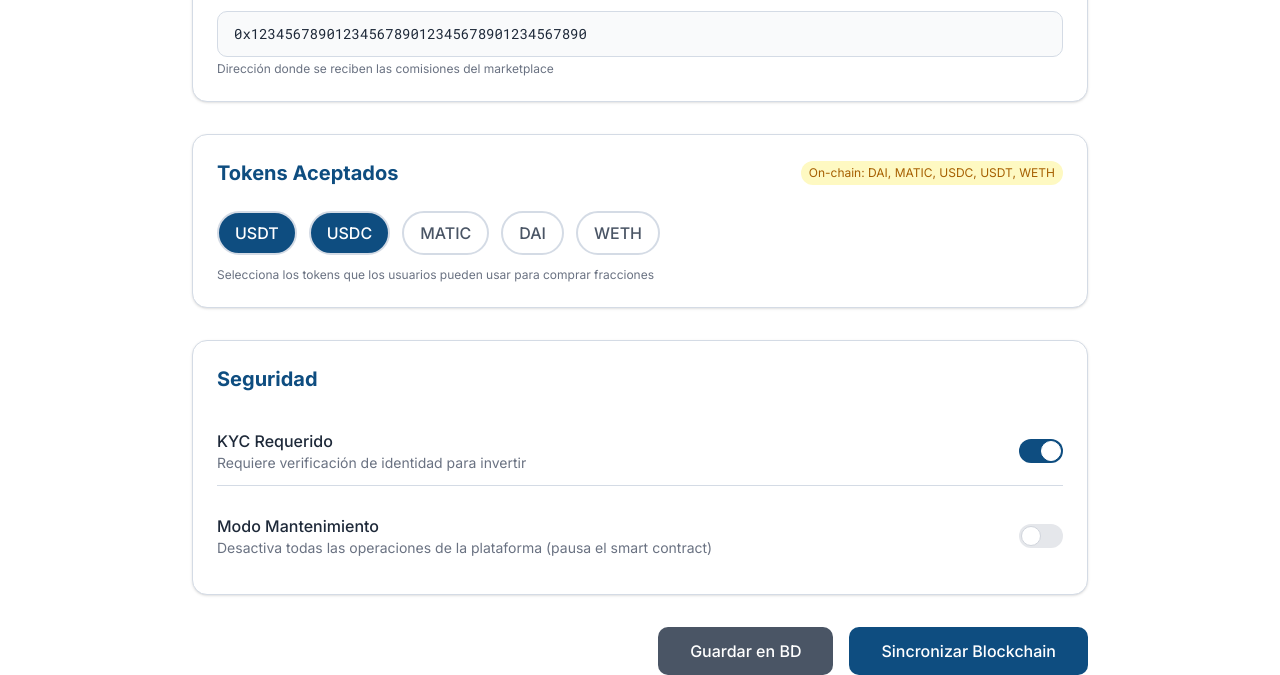
Test case: AdminSettingsPage › Settings Update › should show success message on save
(page scrolled)
Click the button "Guardar en BD".
click(746, 651)  # box [658,627,833,674]
(page scrolled)
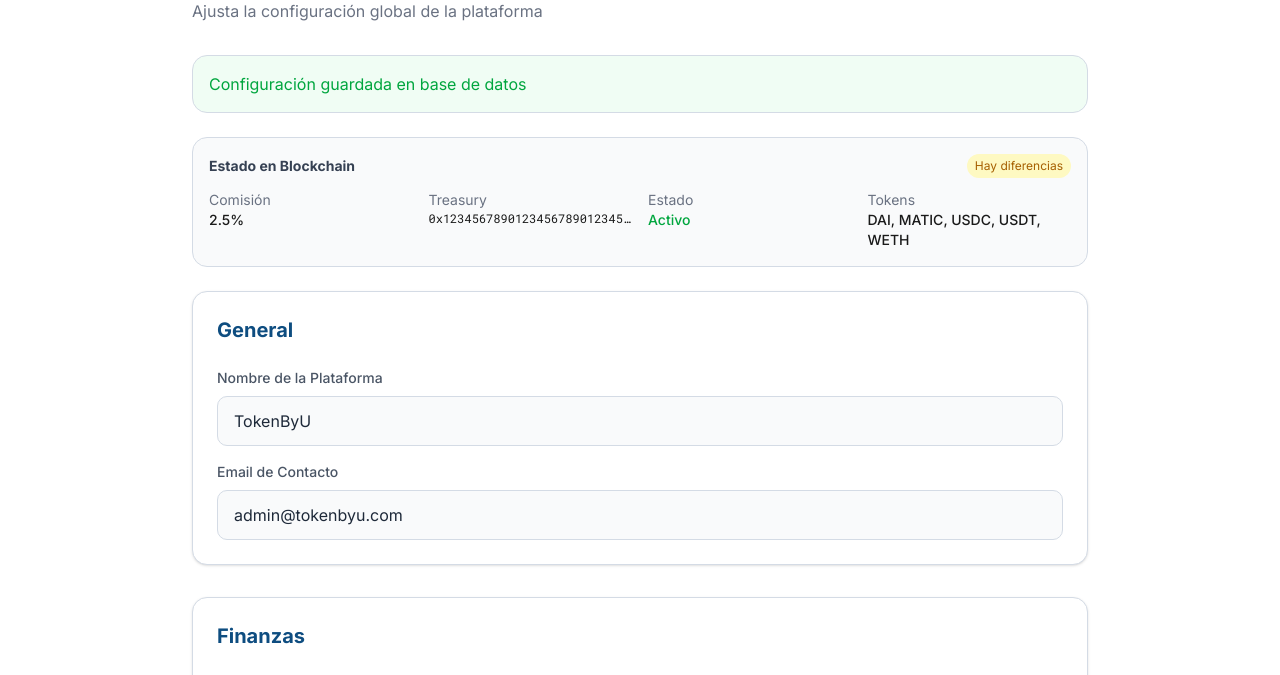
Check: the text "Configuración guardada en base de datos" is shown, box [209,74,526,94]
